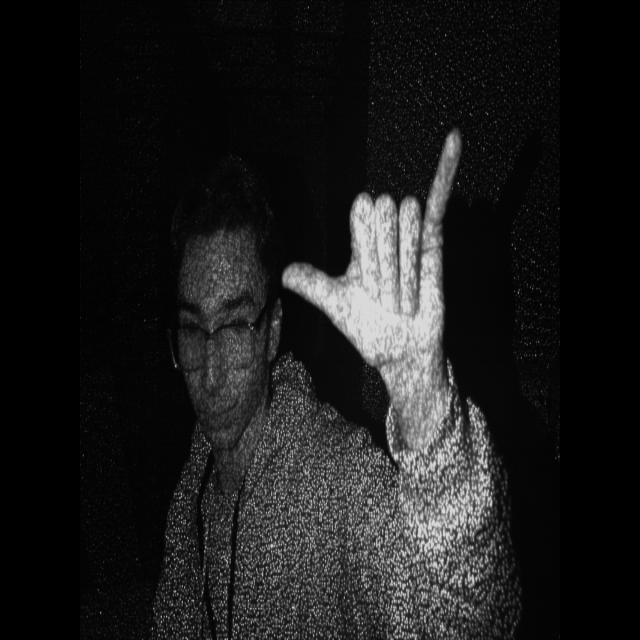Y: (279, 120, 468, 370)
